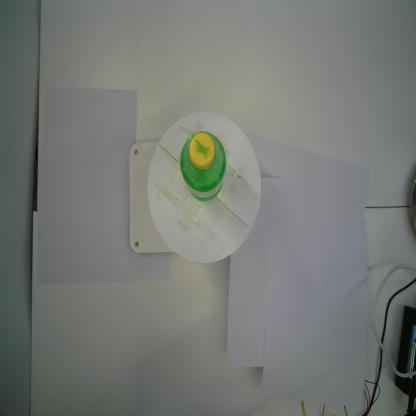Drink: (179, 130, 228, 206)
